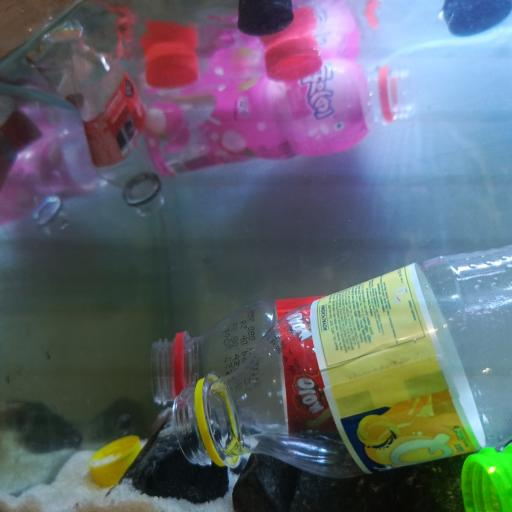bottle_cap: (87, 429, 145, 488), (141, 41, 202, 91), (440, 0, 512, 39), (261, 39, 324, 80), (237, 0, 294, 35)
plastic_bottle: (172, 242, 512, 484), (148, 296, 512, 441), (134, 61, 412, 173), (33, 23, 168, 219), (459, 444, 512, 510)
